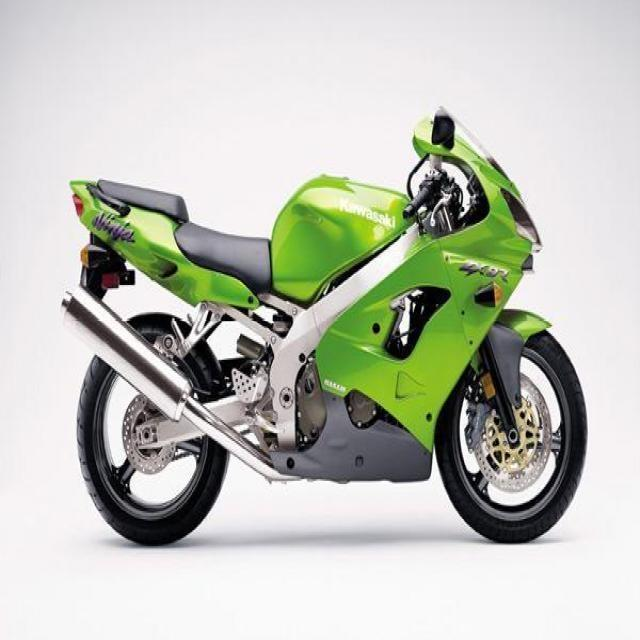Motorcycle: (53, 106, 593, 554)
